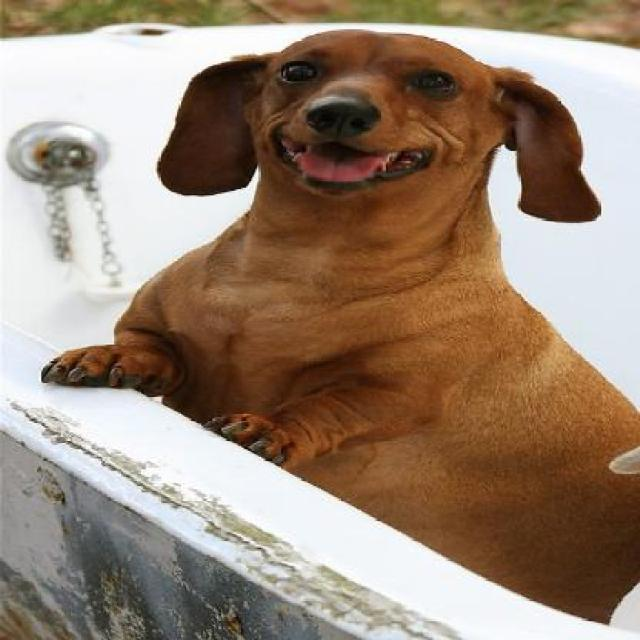Dog: (41, 26, 638, 628)
